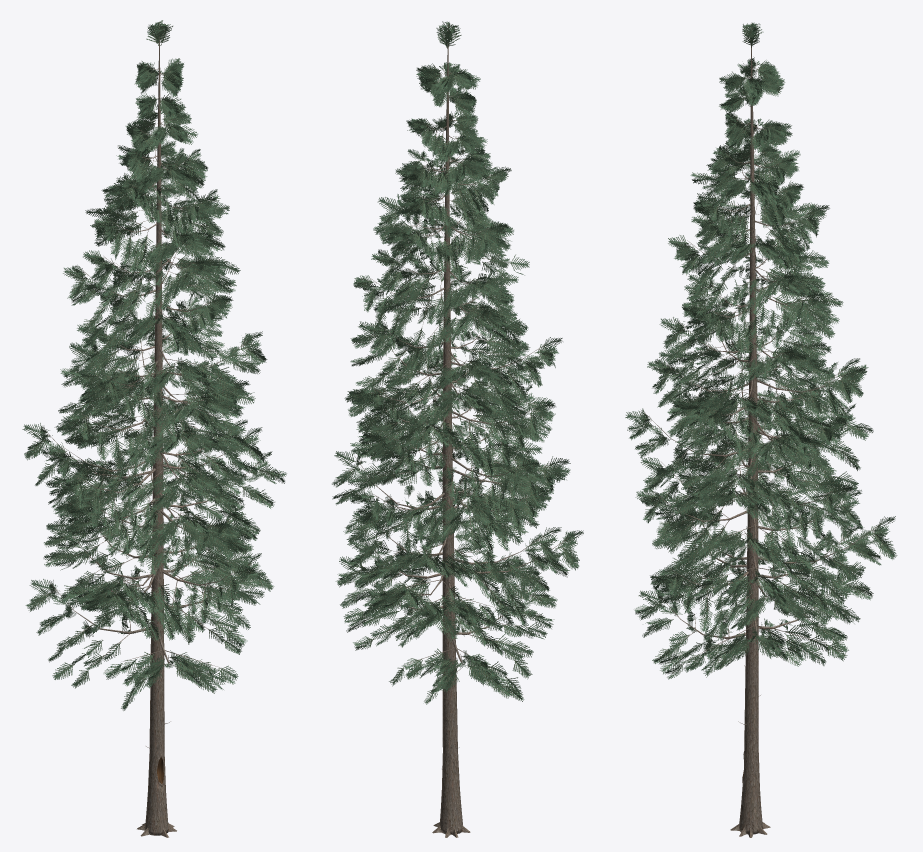
The model's file is SS_Defect_Cavity_Young_02_LOD0.fbx.
3 renders of one model, left to right at view 1: azimuth 30°, elevation 25°; view 2: azimuth 150°, elevation 25°; view 3: azimuth 270°, elevation 25°, orthographic.
Parts seen in each view (by area): view 1: SS_Defect_Cavity_Young_02_LOD0_Foliage, SS_Defect_Cavity_Young_02_LOD0_Trunk, SS_Defect_Cavity_Young_02_LOD0_Branches; view 2: SS_Defect_Cavity_Young_02_LOD0_Foliage, SS_Defect_Cavity_Young_02_LOD0_Trunk, SS_Defect_Cavity_Young_02_LOD0_Branches; view 3: SS_Defect_Cavity_Young_02_LOD0_Foliage, SS_Defect_Cavity_Young_02_LOD0_Trunk, SS_Defect_Cavity_Young_02_LOD0_Branches.
Boxes of the visible parts, x1,y1,x2,y2 form: SS_Defect_Cavity_Young_02_LOD0_Foliage: [22, 20, 286, 710]; SS_Defect_Cavity_Young_02_LOD0_Trunk: [137, 22, 176, 837]; SS_Defect_Cavity_Young_02_LOD0_Branches: [41, 66, 265, 748]; SS_Defect_Cavity_Young_02_LOD0_Foliage: [332, 21, 583, 704]; SS_Defect_Cavity_Young_02_LOD0_Trunk: [432, 23, 470, 837]; SS_Defect_Cavity_Young_02_LOD0_Branches: [349, 69, 568, 748]; SS_Defect_Cavity_Young_02_LOD0_Foliage: [625, 22, 897, 679]; SS_Defect_Cavity_Young_02_LOD0_Trunk: [730, 23, 770, 837]; SS_Defect_Cavity_Young_02_LOD0_Branches: [645, 63, 881, 724].
Size of the model in its own units: 339 by 1100 by 358.
Materials: 3 (3 with a texture image).
